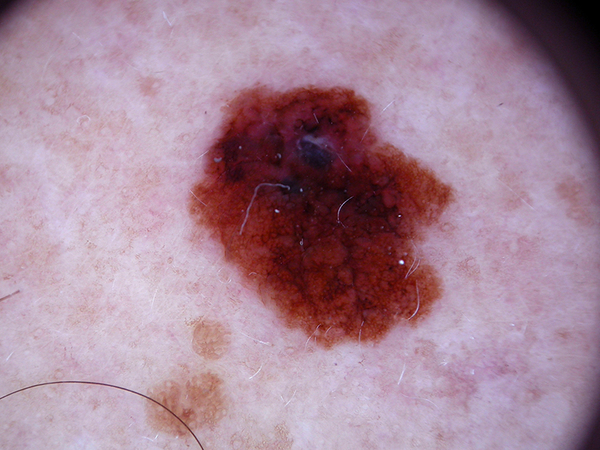Detected Lesion: (190, 70, 460, 356)
